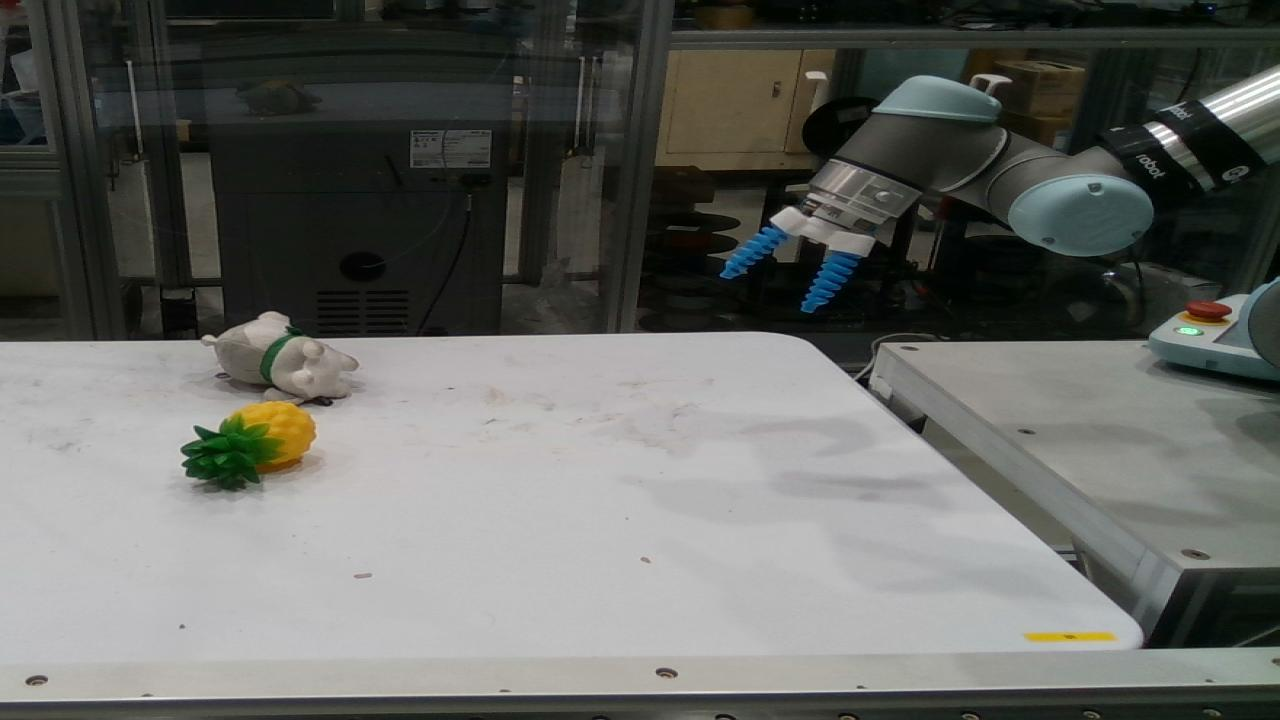UR5: (768, 73, 1278, 255)
gripper_left: (720, 227, 788, 279)
gripper_right: (806, 252, 856, 309)
target: (206, 312, 358, 404), (182, 402, 314, 489)
